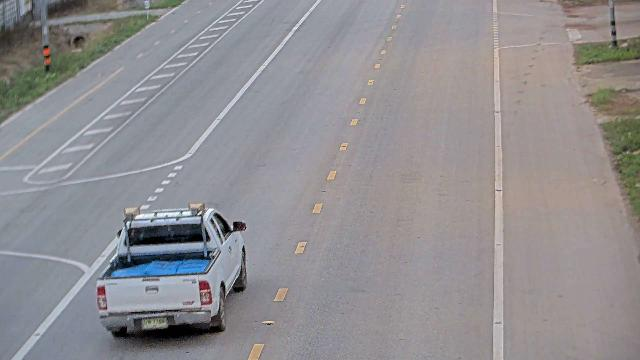pickup-truck: (95, 201, 248, 337)
